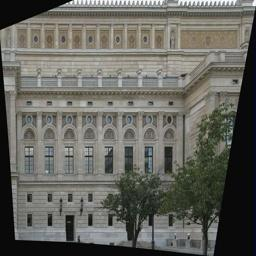building: (2, 0, 256, 241)
